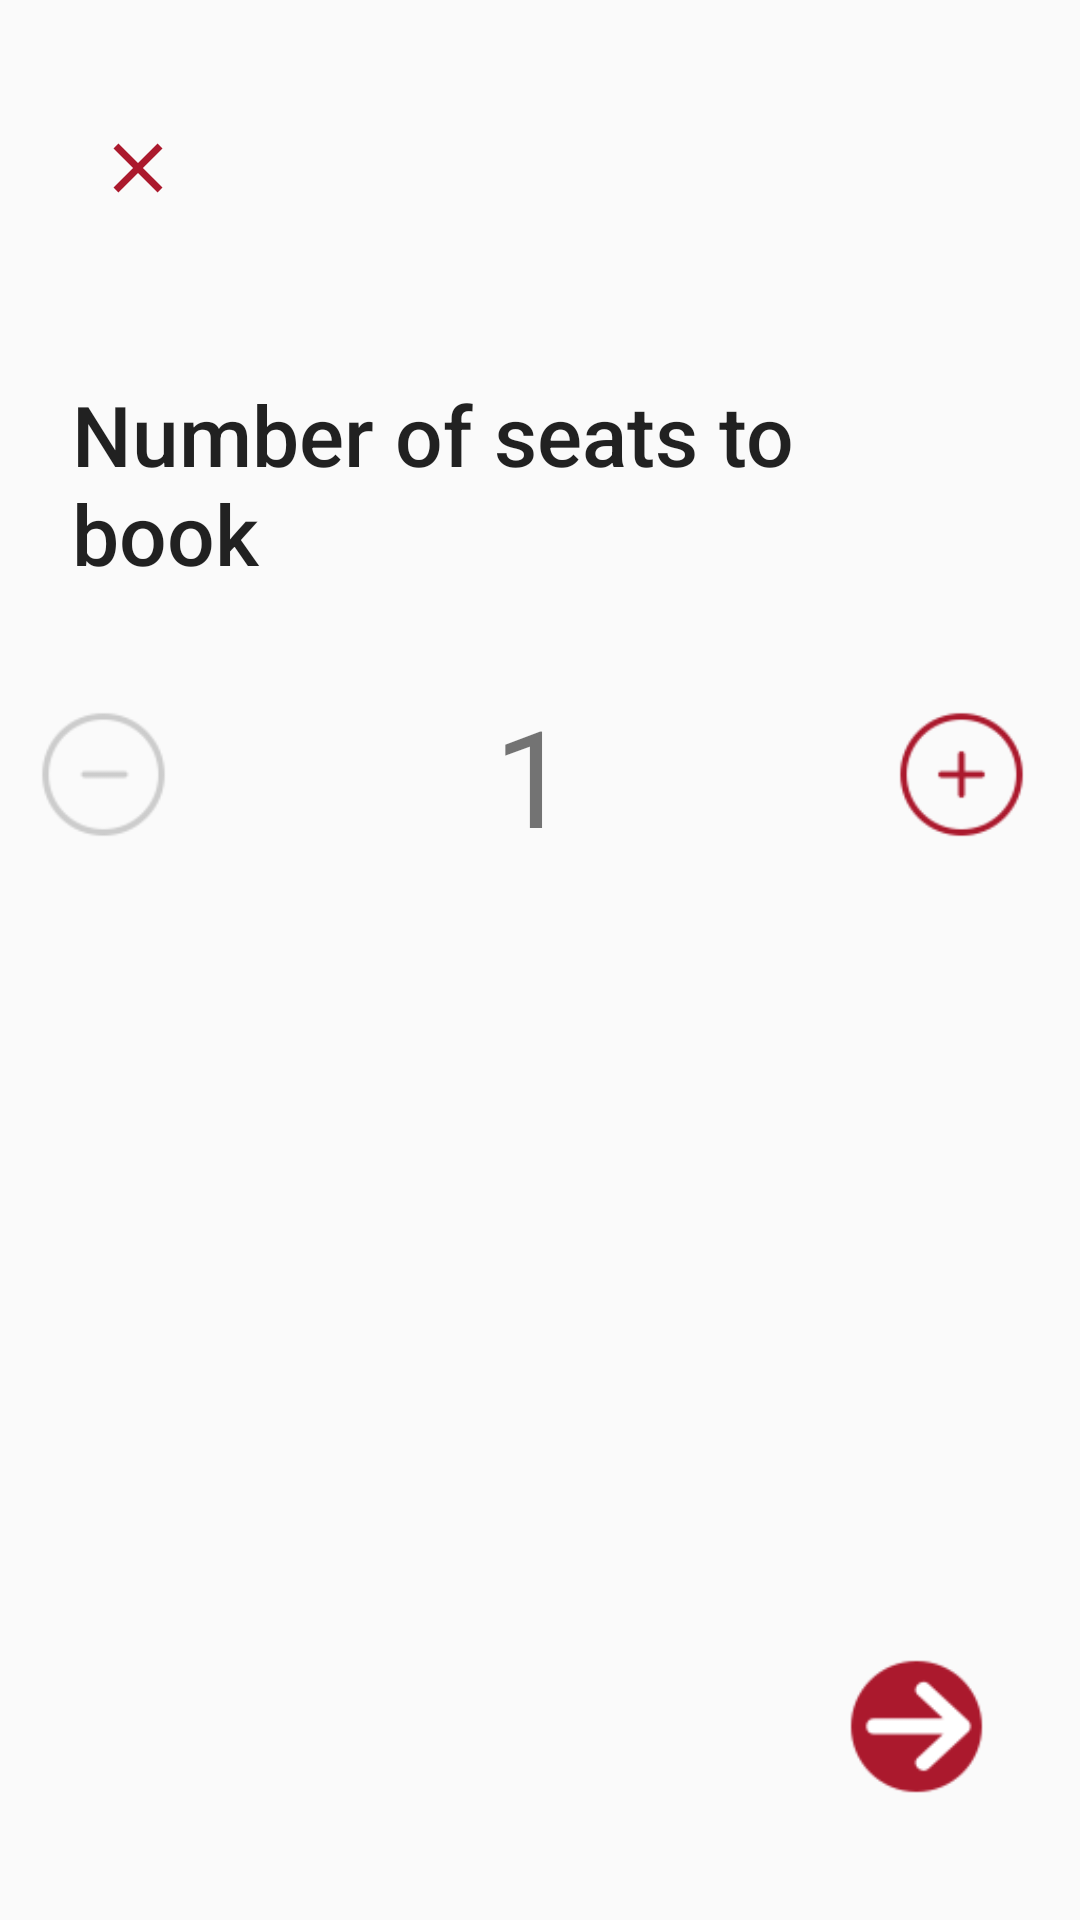

Named icons in this screenshot (1080x1920) and their centers, (x=x, y=y):
arrow: (x=916, y=1726)
close: (x=138, y=168)
minus: (x=103, y=774)
plus: (x=961, y=774)
